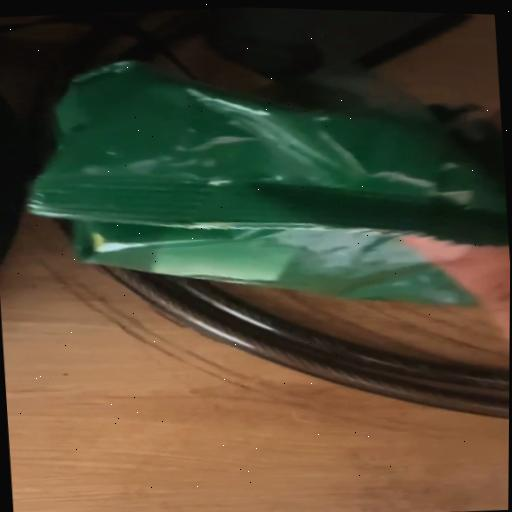cafe_xay: (28, 61, 509, 304)
